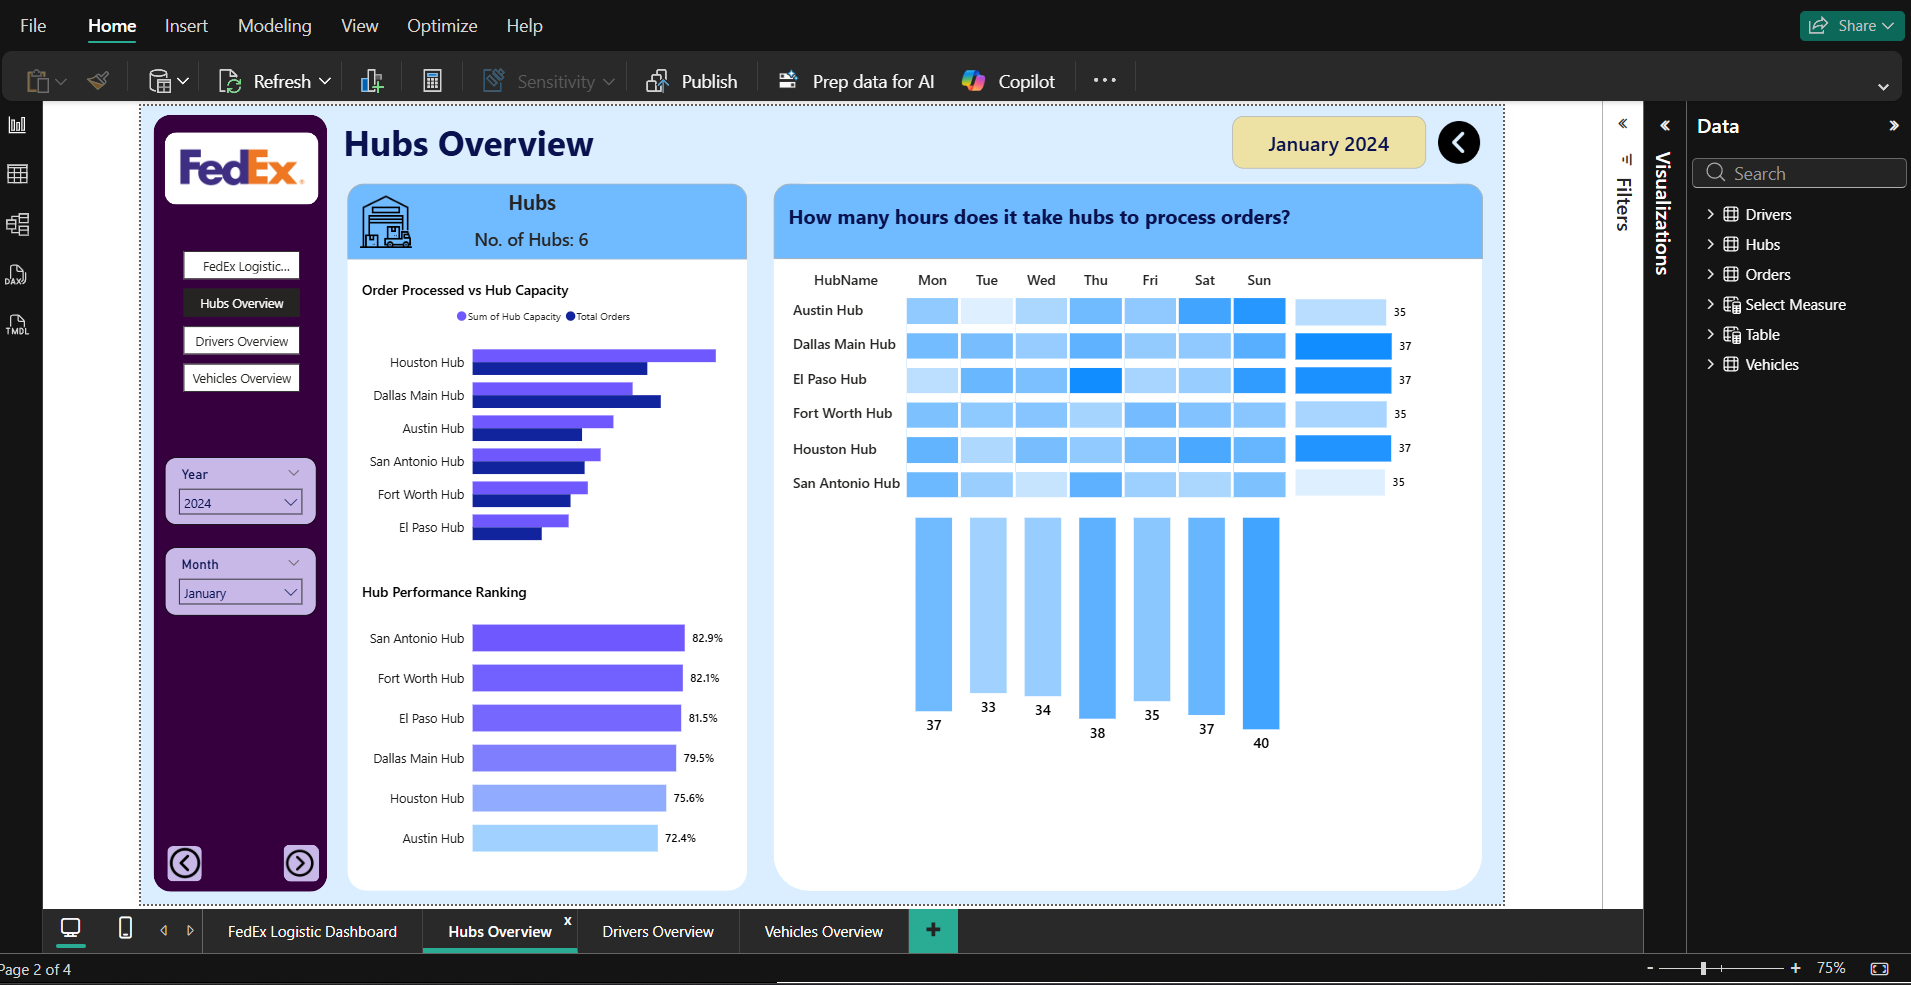

This screenshot's page, from the dashboard's own definition file:
{"tool":"powerbi","page":{"name":"Hubs Overview","canvas":[1450,850],"ordinal":1},"visuals":[{"type":"shape","box":[13.9,9,185.1,827.1],"z":0},{"type":"textbox","box":[209.8,8.6,535.3,65.3],"z":1000},{"type":"slicer","fields":{"Values":["Table.Year"]},"box":[24.9,374.2,161.2,71.7],"z":2000},{"type":"slicer","fields":{"Values":["Table.Month"]},"box":[24.9,469.8,161.2,72.7],"z":3000},{"type":"shape","box":[219.6,82.5,425.8,753.1],"z":4000},{"type":"shape","box":[219.6,82.5,425.8,81.2],"z":5000},{"type":"textbox","box":[359.3,82.5,114.4,45.2],"z":6000},{"type":"cardVisual","fields":{"Data":["Hubs.No. of Hubs"]},"box":[287.4,123.7,256.8,34.6],"z":7000},{"type":"clusteredBarChart","title":"Order Processed vs Hub Capacity","fields":{"Category":["Hubs.HubName"],"Y":["Sum(Hubs.Hub Capacity)","Orders.Total Orders"]},"box":[230.2,185,400.5,296.7],"z":8000},{"type":"barChart","title":"Hub Performance Ranking","fields":{"Category":["Hubs.HubName"],"Y":["Orders.On time Delevery Rate"]},"box":[230.2,507,400.5,310],"z":9000},{"type":"shape","box":[25.3,27.9,163.7,77.2],"z":10000},{"type":"cardVisual","fields":{"Data":["Orders.Year Month Title"]},"box":[1161.6,10.6,206.2,55.9],"z":11000},{"type":"shape","box":[673.8,81.6,754.4,754.4],"z":12000},{"type":"shape","box":[672.8,82.6,755.4,80.6],"z":13000},{"type":"image","box":[34.6,24,146.4,83.8],"z":14000},{"type":"image","box":[1367.9,16,70.5,45.2],"z":15000},{"type":"shape","box":[151.3,786.3,36.8,37.8],"z":16000},{"type":"shape","box":[27.9,787.3,36.8,37.8],"z":17000},{"type":"shape","box":[153.3,787.3,36.7,38],"z":18000},{"type":"image","box":[153.5,781.8,31.8,47.1],"z":19000},{"type":"image","box":[28.8,785.3,35.3,41.8],"z":20000},{"type":"pivotTable","fields":{"Rows":["Hubs.HubName"],"Columns":["Table.Day"],"Values":["Orders.Average Delivery Time (Hrs)"]},"box":[683.8,168.2,561.4,277.7],"z":21000},{"type":"columnChart","fields":{"Category":["Table.Day"],"Y":["Orders.Average Delivery Time (Hrs)"]},"box":[819.1,425,399.1,300.6],"z":22000},{"type":"barChart","fields":{"Category":["Hubs.HubName"],"Y":["Orders.Average Delivery Time (Hrs)"]},"box":[1224.2,193.1,225.9,227.9],"z":23000},{"type":"textbox","box":[683.8,97.5,582.3,50.8],"z":24000},{"type":"pageNavigator","box":[44.8,154.3,124.4,152.3],"z":25000},{"type":"image","box":[219.6,94.5,82.5,57.2],"z":26000}]}

Visuals, with their boxes on the page's 1450x850 design canvas (x1, y1, x2, y2). These are canvas units, not pixel positions in the 1911x985 screenshot, which may show the page scaled, cropped or inside an application window:
shape: [left=14, top=9, right=199, bottom=836]
textbox: [left=210, top=9, right=745, bottom=74]
slicer - Table.Year: [left=25, top=374, right=186, bottom=446]
slicer - Table.Month: [left=25, top=470, right=186, bottom=542]
shape: [left=220, top=82, right=645, bottom=836]
shape: [left=220, top=82, right=645, bottom=164]
textbox: [left=359, top=82, right=474, bottom=128]
cardVisual - Hubs.No. of Hubs: [left=287, top=124, right=544, bottom=158]
"Order Processed vs Hub Capacity" clusteredBarChart: [left=230, top=185, right=631, bottom=482]
"Hub Performance Ranking" barChart: [left=230, top=507, right=631, bottom=817]
shape: [left=25, top=28, right=189, bottom=105]
cardVisual - Orders.Year Month Title: [left=1162, top=11, right=1368, bottom=66]
shape: [left=674, top=82, right=1428, bottom=836]
shape: [left=673, top=83, right=1428, bottom=163]
image: [left=35, top=24, right=181, bottom=108]
image: [left=1368, top=16, right=1438, bottom=61]
shape: [left=151, top=786, right=188, bottom=824]
shape: [left=28, top=787, right=65, bottom=825]
shape: [left=153, top=787, right=190, bottom=825]
image: [left=154, top=782, right=185, bottom=829]
image: [left=29, top=785, right=64, bottom=827]
pivotTable - Hubs.HubName x Table.Day: [left=684, top=168, right=1245, bottom=446]
columnChart - Table.Day x Orders.Average Delivery Time (Hrs): [left=819, top=425, right=1218, bottom=726]
barChart - Hubs.HubName x Orders.Average Delivery Time (Hrs): [left=1224, top=193, right=1450, bottom=421]
textbox: [left=684, top=98, right=1266, bottom=148]
pageNavigator: [left=45, top=154, right=169, bottom=307]
image: [left=220, top=94, right=302, bottom=152]
